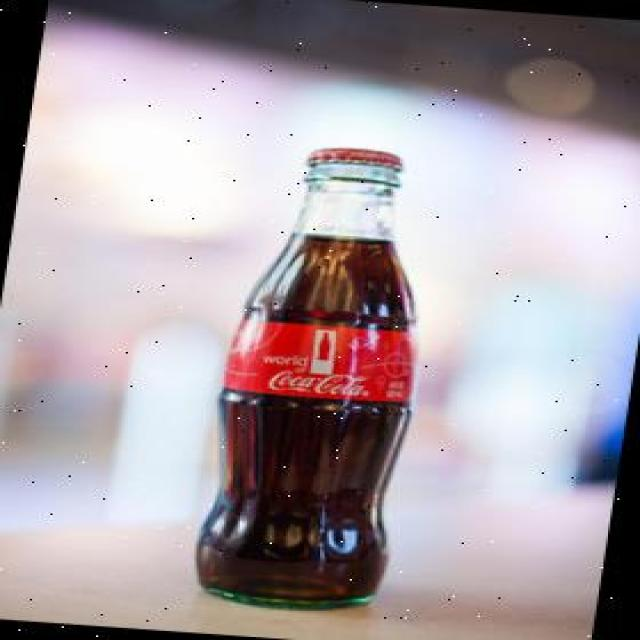coca-cola: (172, 131, 466, 619)
